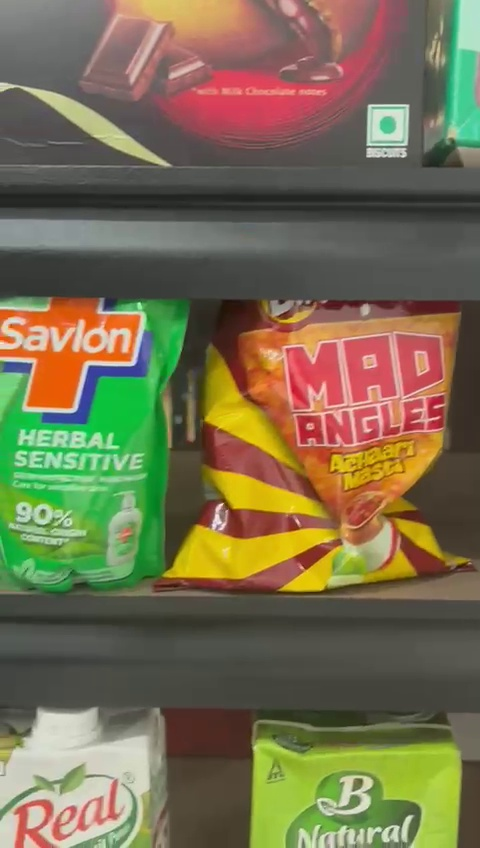Bingo Mad Angles: (191, 296, 465, 598)
